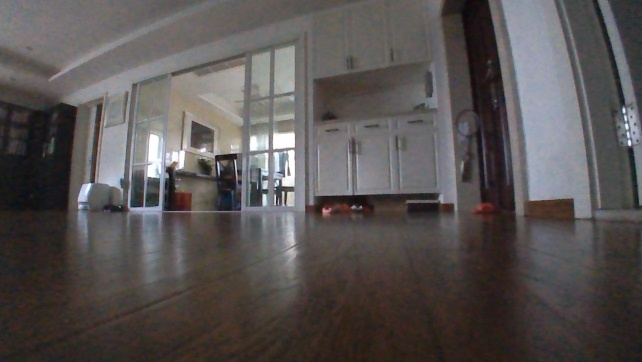dining_table: (210, 148, 291, 210)
door_anno: (454, 0, 527, 218)
